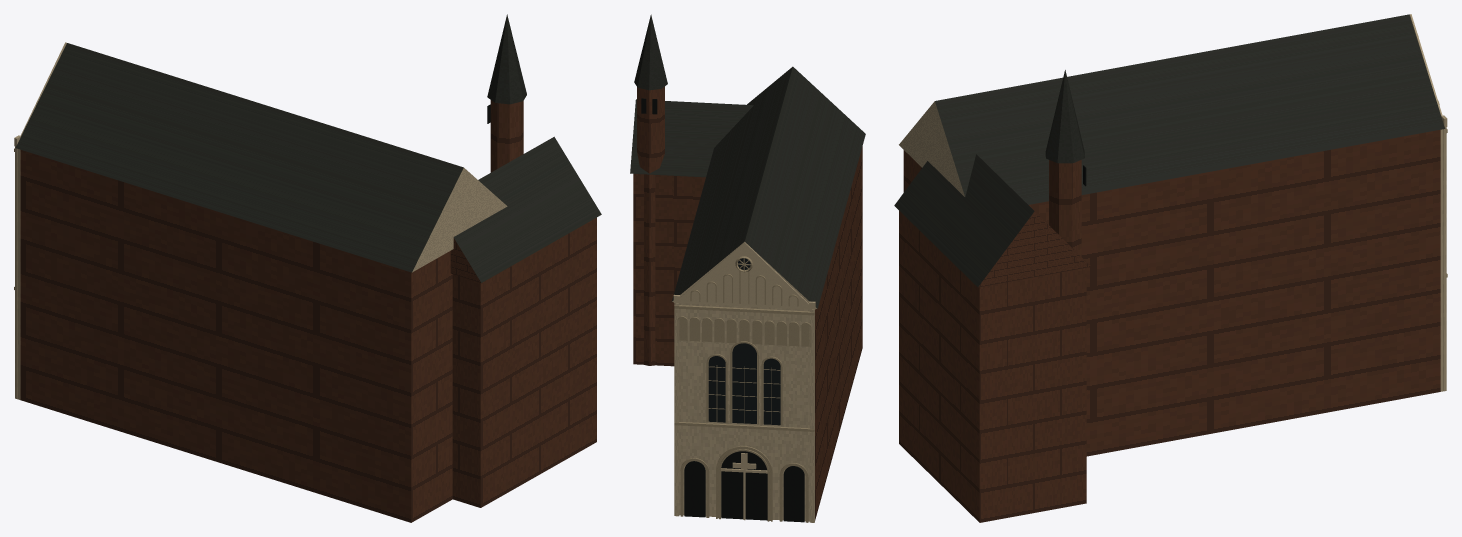
3 views of the same model, side by side, from view 1: azimuth 30°, elevation 25°; view 2: azimuth 150°, elevation 25°; view 3: azimuth 270°, elevation 25° (orthographic). The views are drawn at different scales.
Visible parts, largest first — view 1: olv-wijnhaven-0, olv-wijnhaven-1, olv-wijnhaven-2; view 2: olv-wijnhaven-1, olv-wijnhaven-0, olv-wijnhaven-2, olv-wijnhaven-4, olv-wijnhaven-3, olv-wijnhaven-5; view 3: olv-wijnhaven-0, olv-wijnhaven-1, olv-wijnhaven-2.
Part boxes in pixels (bbox=[...]): olv-wijnhaven-0: bbox=[20, 100, 596, 522]; olv-wijnhaven-1: bbox=[15, 14, 601, 282]; olv-wijnhaven-2: bbox=[14, 42, 507, 399]; olv-wijnhaven-1: bbox=[630, 14, 865, 308]; olv-wijnhaven-0: bbox=[633, 86, 862, 520]; olv-wijnhaven-2: bbox=[672, 241, 816, 522]; olv-wijnhaven-4: bbox=[674, 256, 814, 522]; olv-wijnhaven-3: bbox=[641, 98, 804, 522]; olv-wijnhaven-5: bbox=[708, 258, 780, 425]; olv-wijnhaven-0: bbox=[899, 129, 1440, 522]; olv-wijnhaven-1: bbox=[894, 14, 1445, 286]; olv-wijnhaven-2: bbox=[899, 14, 1447, 391].
Size of the model in its own units: 32.97 by 32.5 by 38.03.
6 materials, 6 textured.
